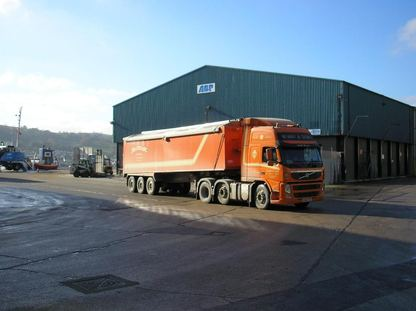truck: (119, 114, 330, 212), (0, 144, 25, 172)
